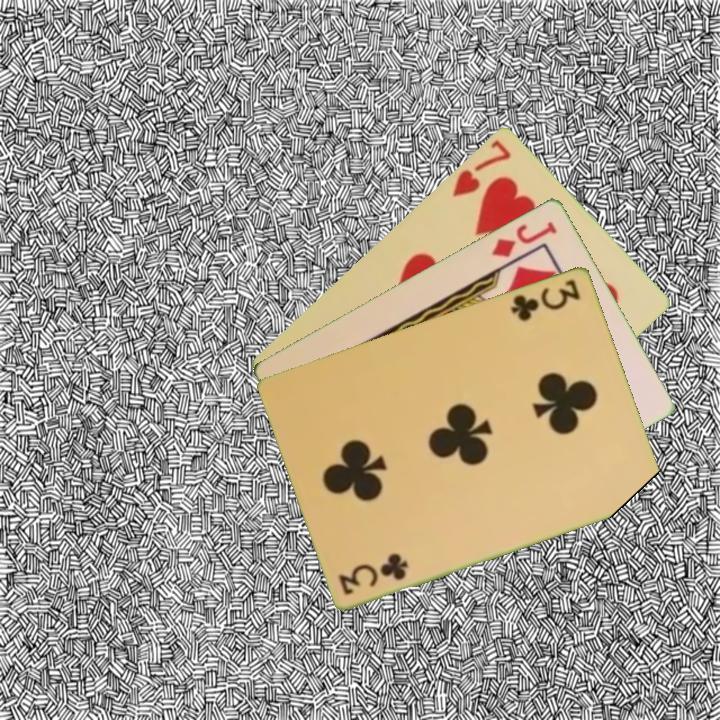3c: (507, 275, 584, 324), (335, 551, 412, 597)
7h: (449, 136, 514, 200)
Jd: (487, 217, 560, 260)
